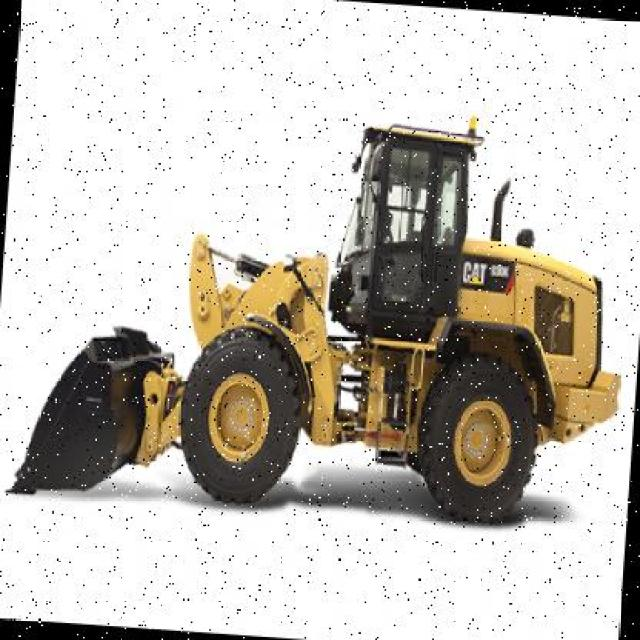buldozerpayloadergrader: (7, 86, 640, 543)
